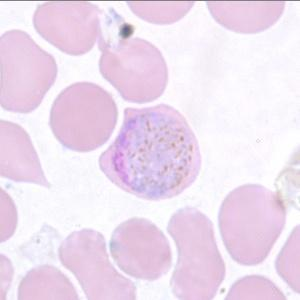Infected: (98, 103, 201, 199)
Uninfected: (58, 227, 140, 300), (218, 183, 287, 267), (167, 205, 225, 300), (48, 80, 119, 151), (0, 31, 58, 117), (100, 34, 167, 103), (109, 217, 173, 280), (32, 0, 100, 57), (0, 120, 50, 190), (18, 262, 82, 300)
